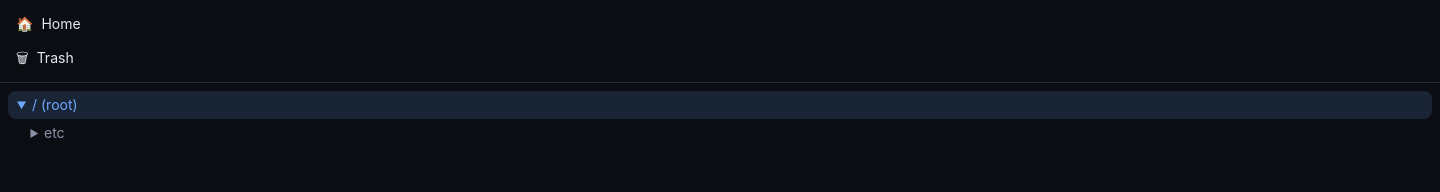
Test: FileTree › collapses and re-expands a folder
Expected: the button "etc" is shown, [44,119,1424,147]
Click the button named "Expand etc": (34, 133) [24,121,44,145]
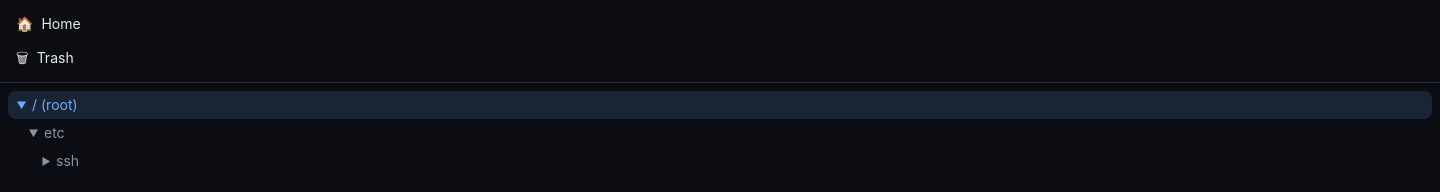
Expected: the button "ssh" is shown, [56,147,1424,175]
Click the button named "Collapse etc": (34, 133) [24,121,44,145]
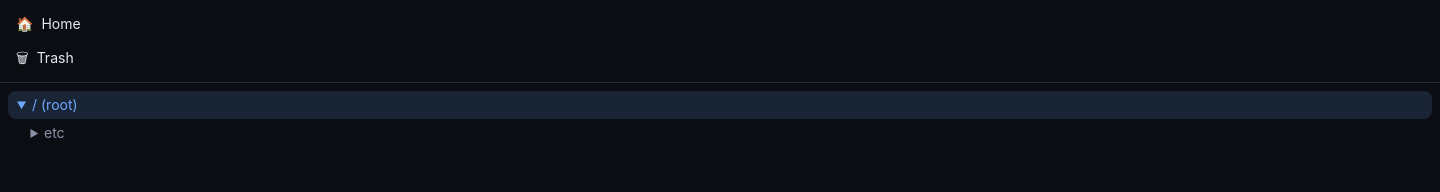
Expected: the button "ssh" is gone
